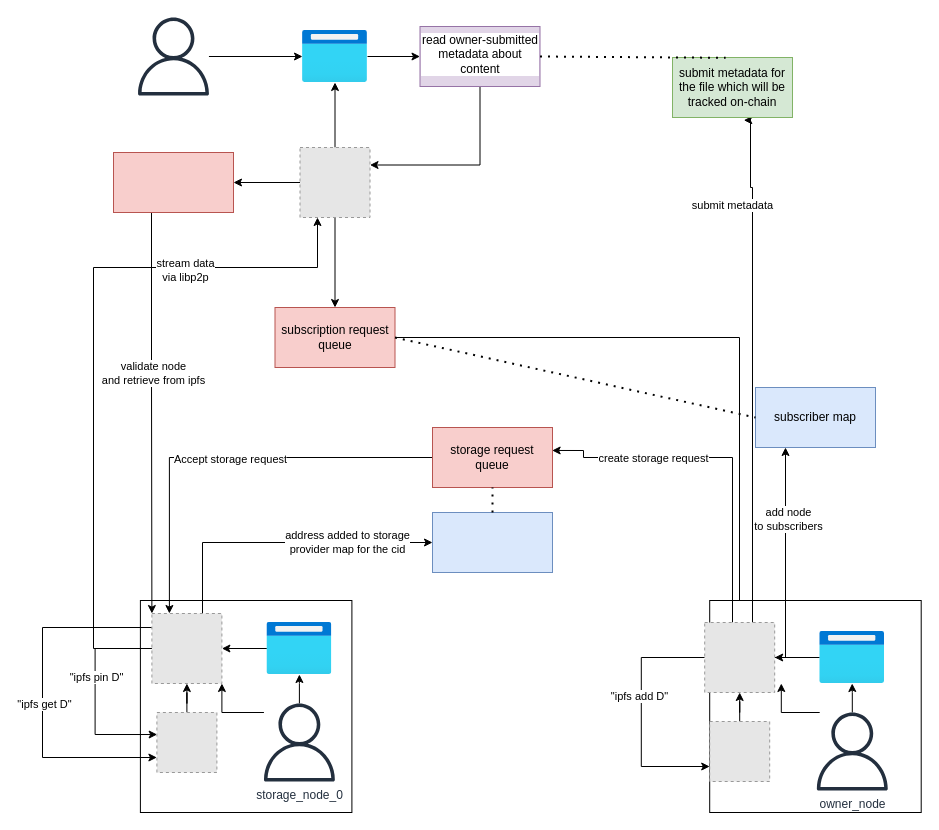
Image size: 939x830. Some labels were removed from this diagram. Grey dashed boxes stand in for pictures. The shapes that lost their labels are listed below. From the top down, each one's box as (x1, y1, x2, y2) in pixels, then its label:
(134, 17, 212, 95): consumer_node
(112, 152, 234, 212): data retrieval request queue
(432, 512, 552, 572): storage provider map
